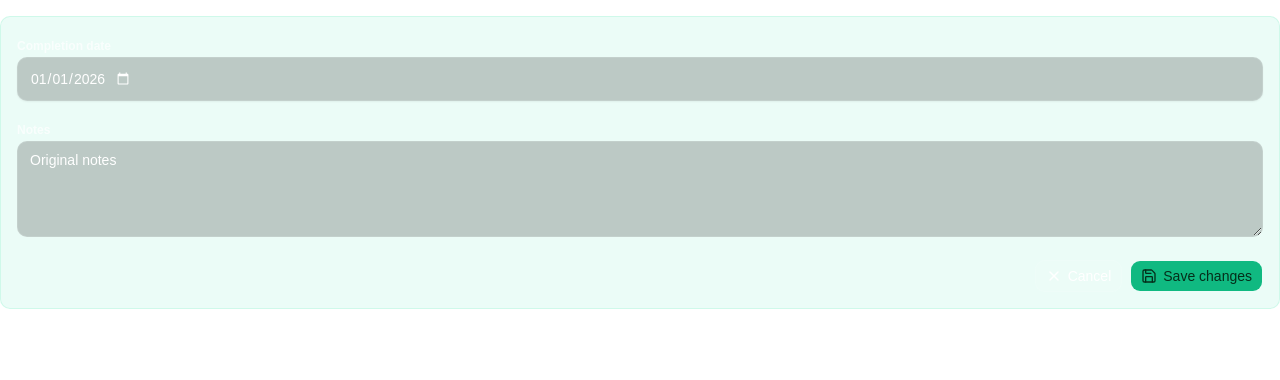
Test: EditCheckInForm › submits trimmed update details and shows success feedback
Step 1. Type "2026-01-03" into the date field labelled "Completion date" → (640, 79), box [17, 57, 1263, 101]
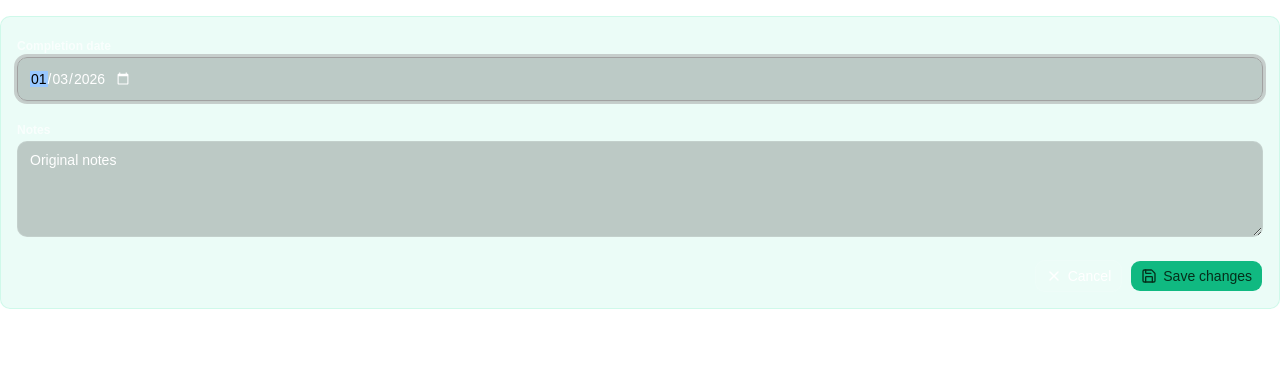
Step 2. Replace the text in the text box labelled "Notes" with "  Updated notes  " → (640, 189), box [17, 141, 1263, 237]
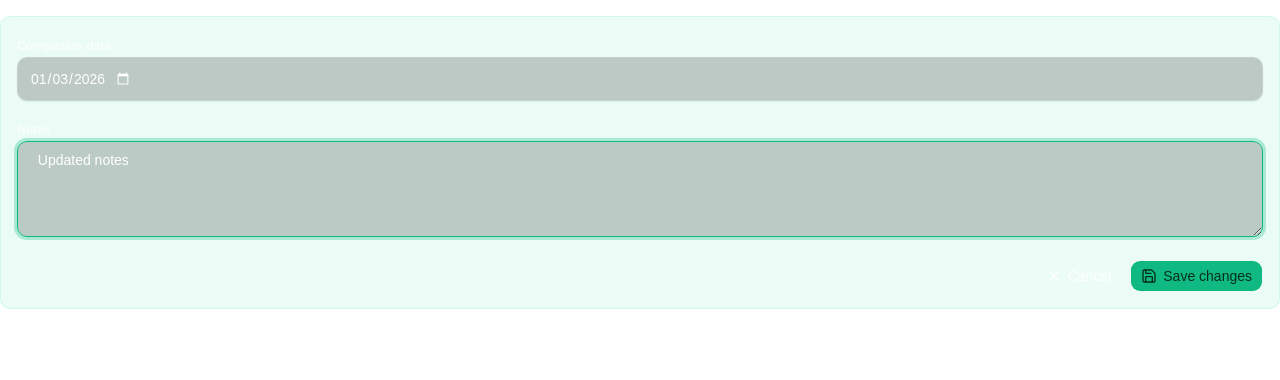
Step 3. Click the button "Save changes" → (1197, 276), box [1130, 260, 1263, 292]
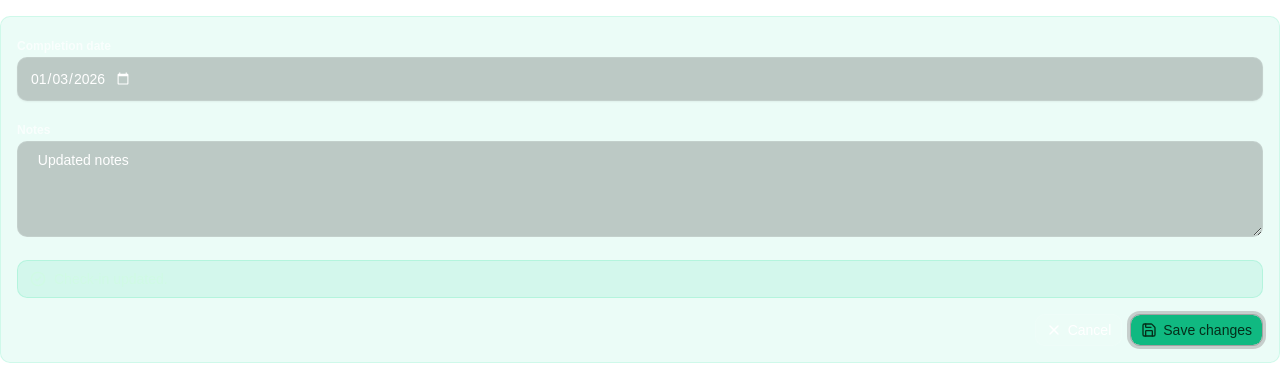
expect the text "Check-in updated." is shown: met, box [17, 260, 1263, 298]
